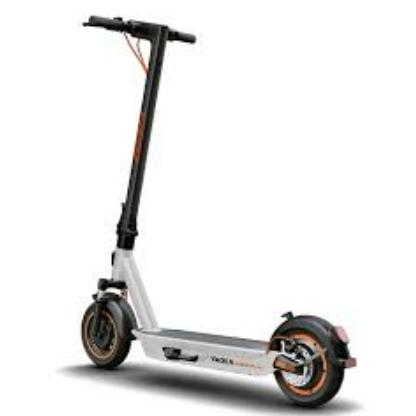bike: (78, 9, 402, 412)
car: (80, 10, 359, 411)
